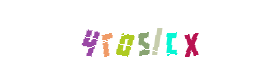4: (55, 0, 135, 80)
C: (130, 0, 210, 80)
L: (103, 0, 183, 80)
O: (92, 0, 172, 80)
R: (85, 0, 165, 80)
S: (97, 0, 177, 80)
X: (151, 0, 231, 80)
